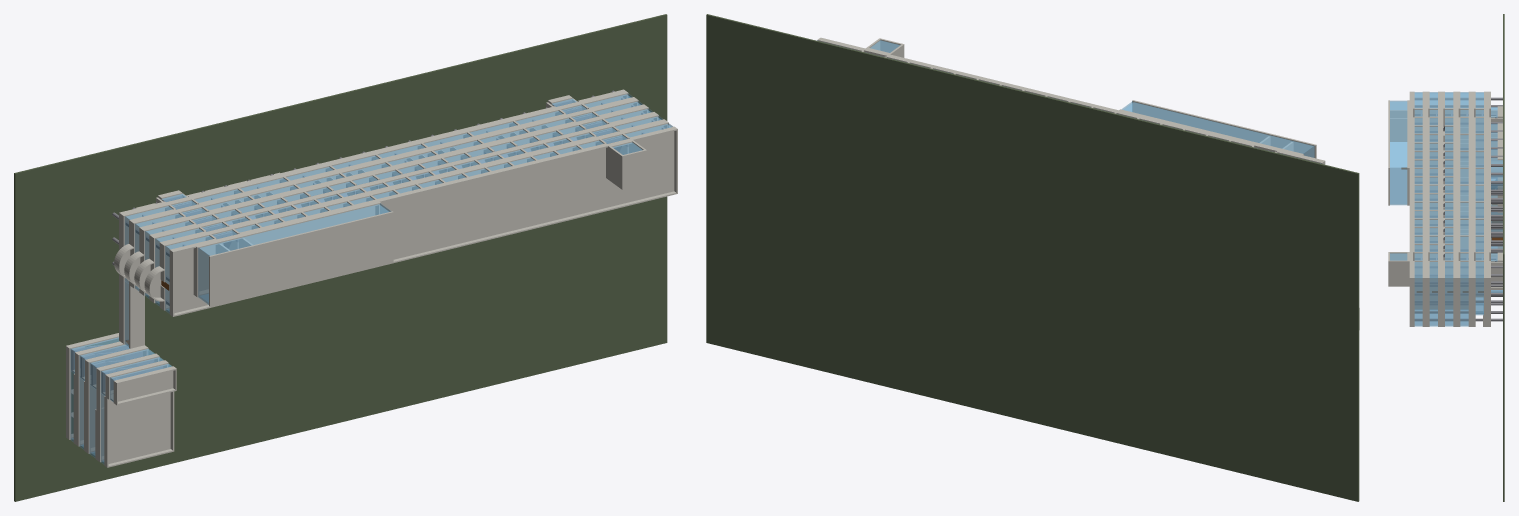
Rendered from DomNarkomfin_Elements.obj.
The picture shows the model from 3 angles, left to right: view 1: azimuth 30°, elevation 25°; view 2: azimuth 150°, elevation 25°; view 3: azimuth 270°, elevation 25°; orthographic projection. The views are drawn at different scales.
Parts seen in each view (by area): view 1: Slab_SITE_Ground, Roof_PH_L7, Roof_CB, Window_PH_L6_N, Parapet_RB_L6_S, Roof_RB_L6_b10, Roof_RB_L6_b11, Roof_RB_L6_b12, Roof_RB_L6_b15, Roof_RB_L6_b21, Roof_RB_L6_b13, Roof_RB_L6_b14 (+10 smaller); view 2: Slab_SITE_Ground, Roof_PH_L7, Window_PH_L6_N, Wall_PH_L6_N; view 3: Window_PH_L6_N, Window_PH_L6_S, Slab_SITE_Ground, Window_PH_L6_E, Wall_RB_L6_CoreE_x86.48, Window_RB_L2_E_EndE, Window_RB_L3_E_EndE, Window_RB_L4_E_EndE, Window_RB_L5_E_EndE, Wall_PH_L6_CoreW_x24.26, Wall_PH_L6_N, Wall_RB_L5_E_EndE (+14 smaller).
Part boxes in pixels (x1,y1,x2,y2): Slab_SITE_Ground: (14, 14, 667, 501); Roof_PH_L7: (209, 211, 393, 306); Roof_CB: (104, 392, 170, 465); Window_PH_L6_N: (200, 204, 389, 255); Parapet_RB_L6_S: (170, 191, 677, 316); Roof_RB_L6_b10: (399, 188, 423, 257); Roof_RB_L6_b11: (422, 182, 446, 252); Roof_RB_L6_b12: (445, 177, 468, 246); Roof_RB_L6_b15: (514, 160, 537, 229); Roof_RB_L6_b21: (652, 126, 674, 196); Roof_RB_L6_b13: (468, 171, 491, 241); Roof_RB_L6_b14: (491, 166, 514, 235); Slab_SITE_Ground: (706, 14, 1359, 501); Roof_PH_L7: (1132, 100, 1316, 158); Window_PH_L6_N: (1123, 102, 1312, 153); Wall_PH_L6_N: (1119, 109, 1301, 156); Window_PH_L6_N: (1390, 101, 1407, 167); Window_PH_L6_S: (1390, 142, 1406, 203); Slab_SITE_Ground: (1503, 14, 1504, 501); Window_PH_L6_E: (1390, 167, 1407, 205); Wall_RB_L6_CoreE_x86.48: (1390, 260, 1412, 286); Window_RB_L2_E_EndE: (1460, 277, 1468, 326); Window_RB_L3_E_EndE: (1445, 277, 1453, 326); Window_RB_L4_E_EndE: (1429, 277, 1437, 326); Window_RB_L5_E_EndE: (1414, 277, 1422, 326); Wall_PH_L6_CoreW_x24.26: (1390, 118, 1406, 141); Wall_PH_L6_N: (1407, 101, 1412, 167); Wall_RB_L5_E_EndE: (1422, 277, 1428, 326).
Bounding box in the file's own units: 104 × 50 × 21.3.
